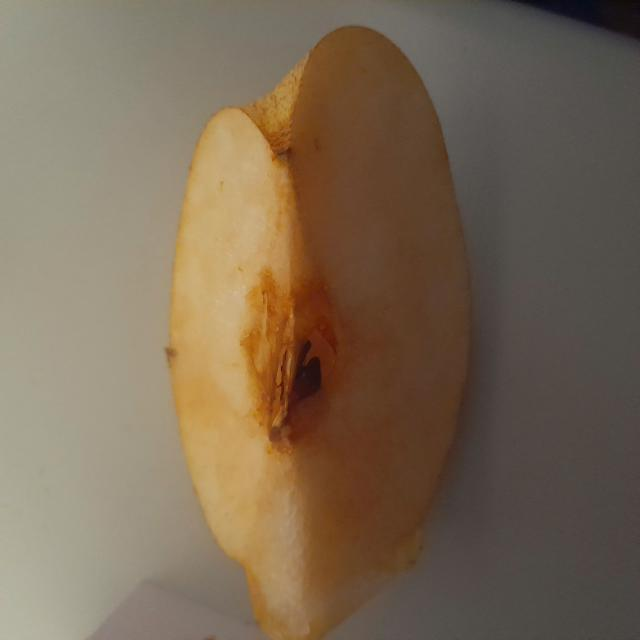Le: (155, 26, 472, 634)
